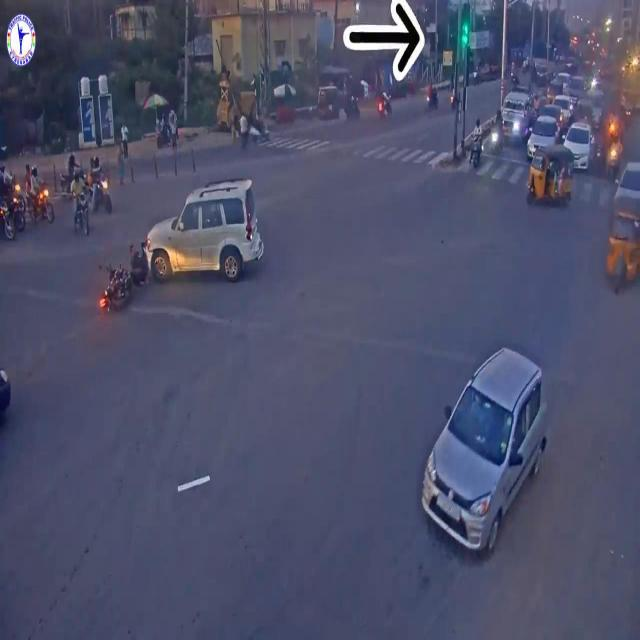accident: (94, 173, 268, 322)
non_accident: (470, 92, 622, 216), (0, 155, 57, 249), (66, 148, 115, 240)
